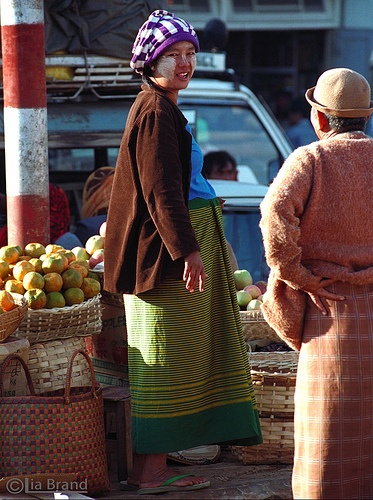head: (126, 9, 204, 93), (310, 69, 371, 139), (201, 150, 237, 179)
person: (96, 14, 264, 483), (258, 61, 372, 499)
